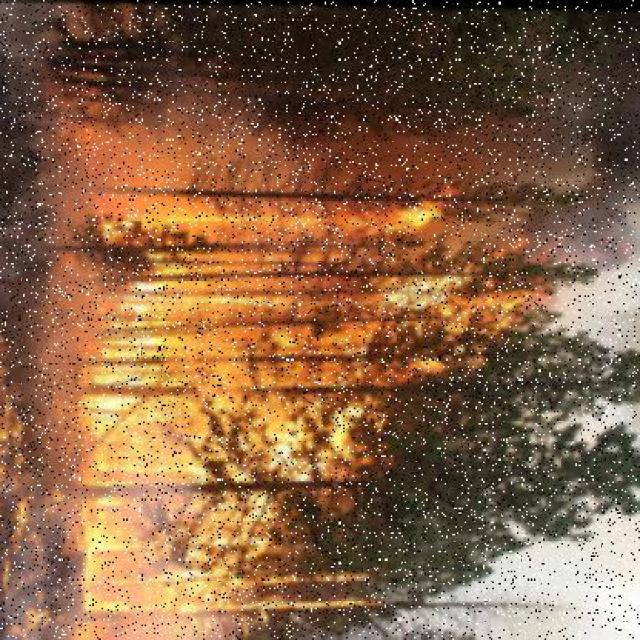fire: (81, 196, 367, 603)
